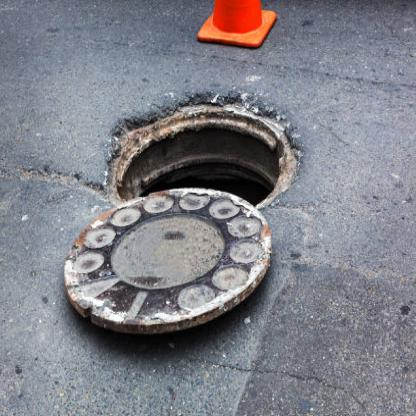open manhole-not overflowing-: (63, 94, 300, 336)
